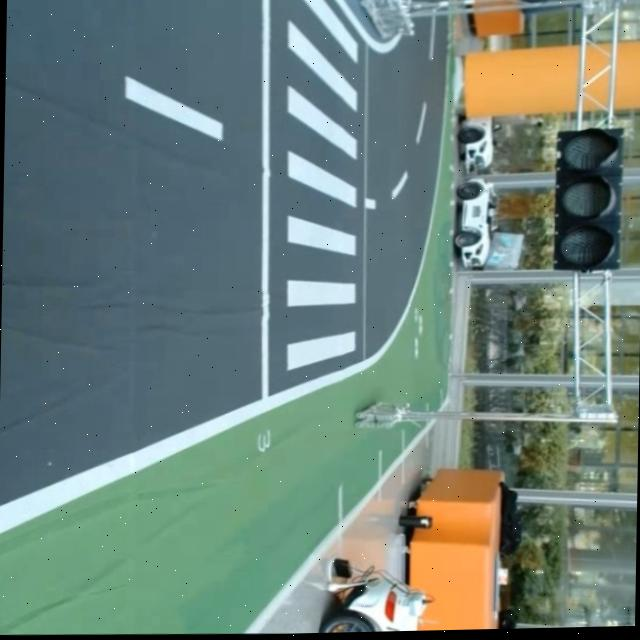traffic-light: (549, 123, 622, 274)
